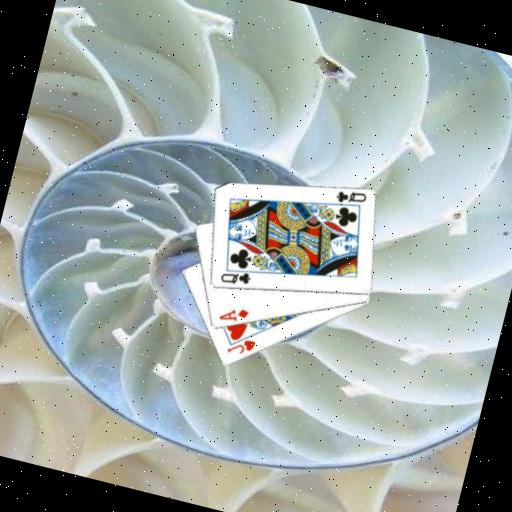AD: (215, 301, 251, 328)
JH: (224, 332, 259, 360)
QC: (332, 184, 369, 211), (217, 264, 254, 290)
